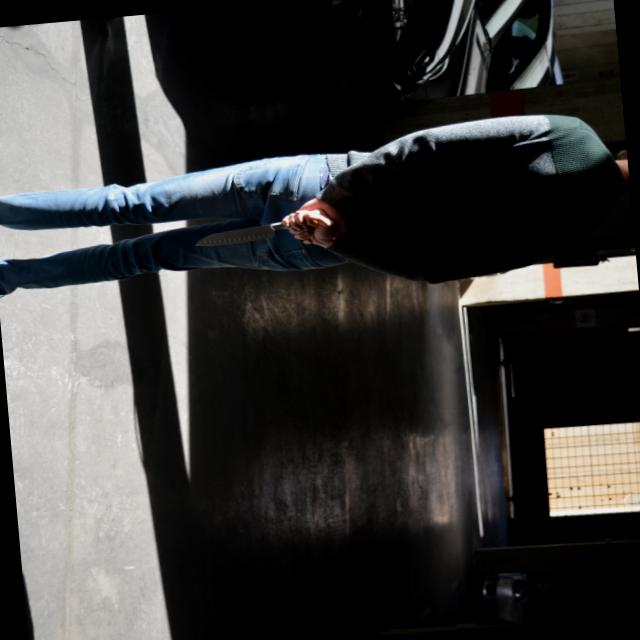knife: (186, 215, 298, 250)
